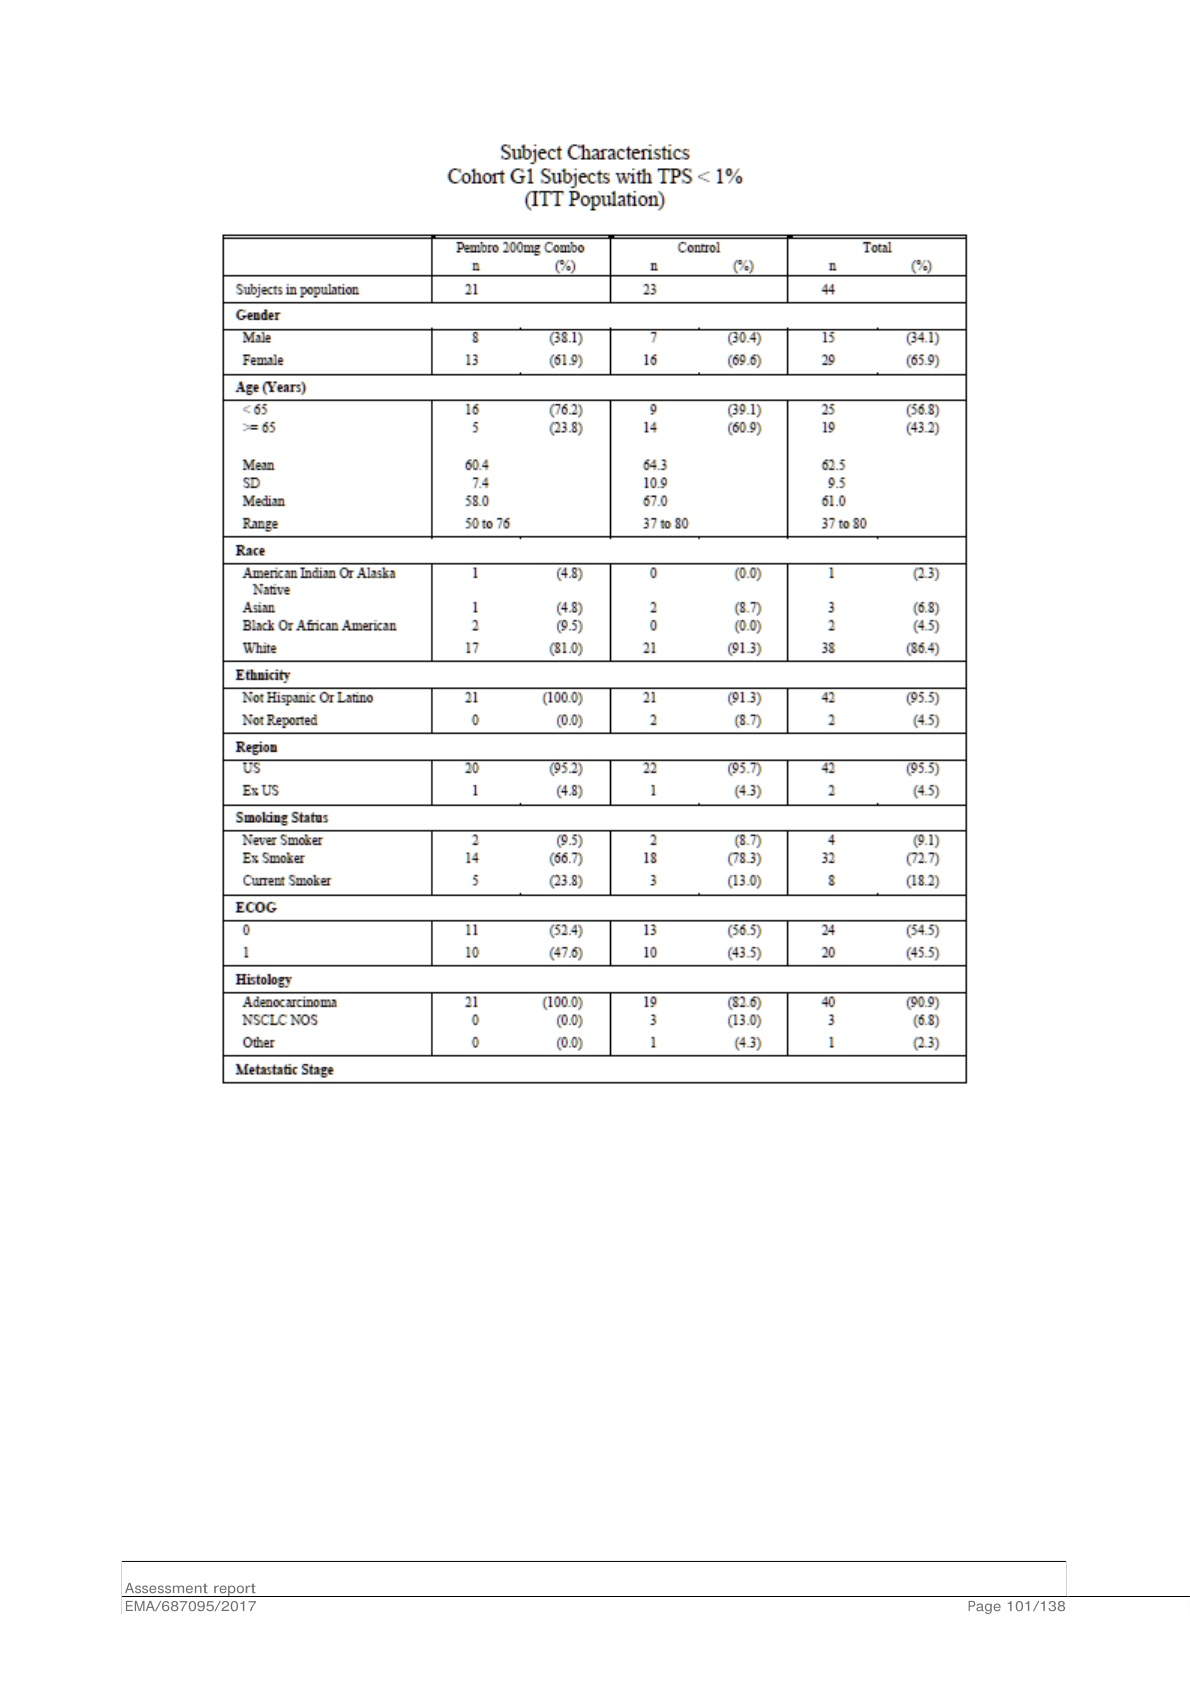merged_cells: (222, 232, 968, 1084)
